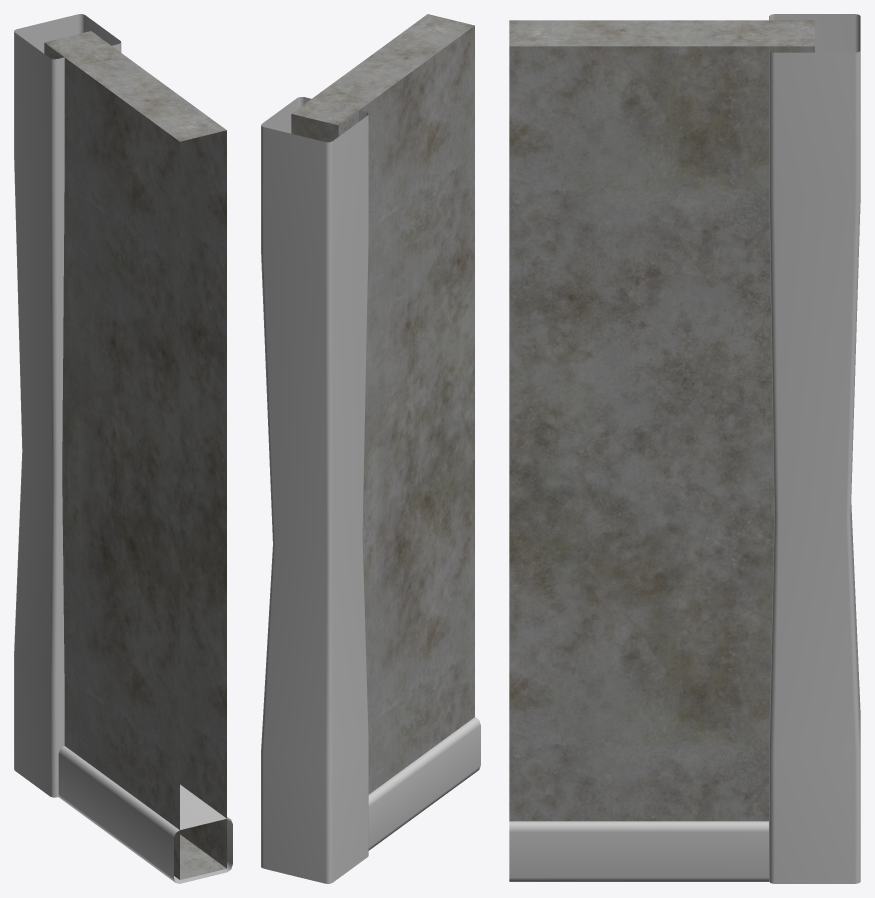
Rendered from SM_WallSmall03.fbx.
3 renders of one model, left to right at view 1: azimuth 30°, elevation 25°; view 2: azimuth 150°, elevation 25°; view 3: azimuth 270°, elevation 25°, orthographic. The views are drawn at different scales.
Parts seen in each view (by area): view 1: SM_WallSmall03_LOD0; view 2: SM_WallSmall03_LOD0; view 3: SM_WallSmall03_LOD0.
Part boxes in pixels (x1,y1,x2,y2): SM_WallSmall03_LOD0: [14, 14, 232, 883]; SM_WallSmall03_LOD0: [261, 14, 480, 883]; SM_WallSmall03_LOD0: [509, 14, 860, 883].
Size of the model in its own units: 30 by 115 by 302.
